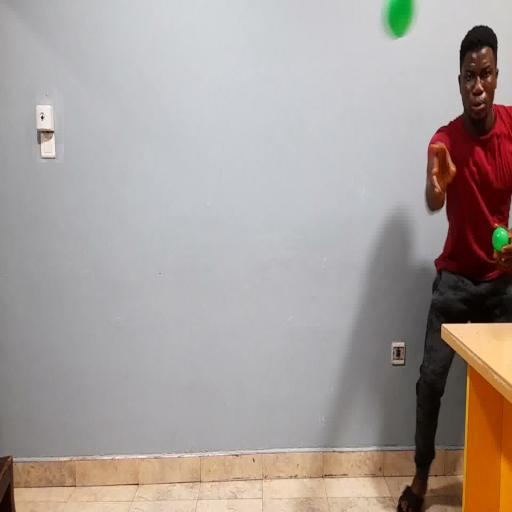plastic-ball: (374, 0, 424, 52)
